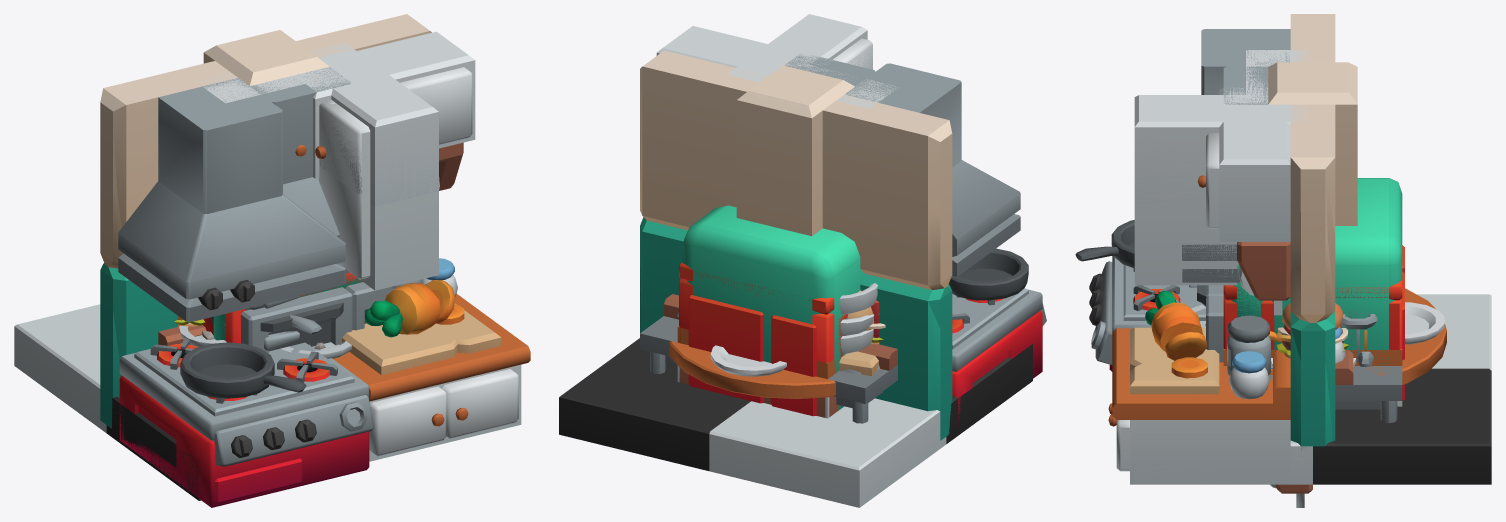
File: restaurant.glb
3 views of the same model, side by side, from view 1: azimuth 30°, elevation 25°; view 2: azimuth 150°, elevation 25°; view 3: azimuth 270°, elevation 25° (orthographic). The views are drawn at different scales.
Visible parts, largest first — view 1: wall_decorated, kitchencabinet_corner, wall, floor_kitchen, wall_doorway, kitchencabinet_corner_half, extractorhood, wall_orderwindow, oven_door, pillar_B, kitchencabinet, wall_half (+3 smaller); view 2: floor_kitchen, wall, wall_decorated, wall_orderwindow, wall_doorway, fridge_A, pillar_B, oven, wall_half, kitchencabinet_corner, table_round_A, wall_window_closed (+8 smaller); view 3: wall_decorated, floor_kitchen, kitchencabinet_corner, wall, wall_doorway, fridge_A, pillar_B, wall_orderwindow, oven, extractorhood, kitchentable_A_large, table_round_A_decorated (+10 smaller).
Boxes of the visible parts, x1,y1,x2,y2 form: wall_decorated: (118, 31, 530, 507); kitchencabinet_corner: (214, 51, 438, 290); wall: (100, 14, 430, 428); floor_kitchen: (14, 304, 200, 500); wall_doorway: (100, 14, 431, 425); kitchencabinet_corner_half: (295, 100, 438, 206); extractorhood: (250, 67, 350, 272); wall_orderwindow: (100, 15, 428, 427); oven_door: (241, 287, 352, 353); pillar_B: (203, 30, 329, 85); kitchencabinet: (198, 42, 376, 103); wall_half: (303, 14, 428, 57); floor_kitchen: (559, 338, 1032, 507); wall: (640, 50, 952, 440); wall_decorated: (656, 26, 1046, 426); wall_orderwindow: (640, 53, 952, 439); wall_doorway: (640, 51, 952, 409); fridge_A: (682, 205, 864, 410); pillar_B: (736, 65, 854, 236); oven: (679, 262, 847, 416); wall_half: (642, 51, 766, 329); kitchencabinet_corner: (749, 14, 891, 85); table_round_A: (669, 341, 881, 398); wall_window_closed: (647, 161, 930, 410); wall_decorated: (1075, 29, 1290, 484); floor_kitchen: (1134, 294, 1491, 484); kitchencabinet_corner: (1134, 52, 1301, 285); wall: (1290, 14, 1335, 448); wall_doorway: (1290, 14, 1335, 451); fridge_A: (1272, 178, 1402, 365); pillar_B: (1268, 62, 1357, 225); wall_orderwindow: (1273, 14, 1353, 446); oven: (1206, 245, 1404, 400); extractorhood: (1182, 66, 1268, 282); kitchentable_A_large: (1335, 366, 1402, 423); table_round_A_decorated: (1191, 302, 1444, 366).
Size of the model in its own units: 4.01 by 5.01 by 4.66.
Materials: 1 (1 with a texture image).
